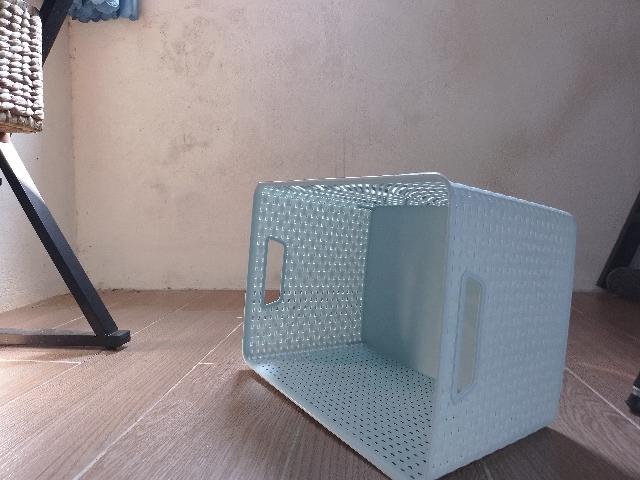cart: (241, 172, 578, 480)
